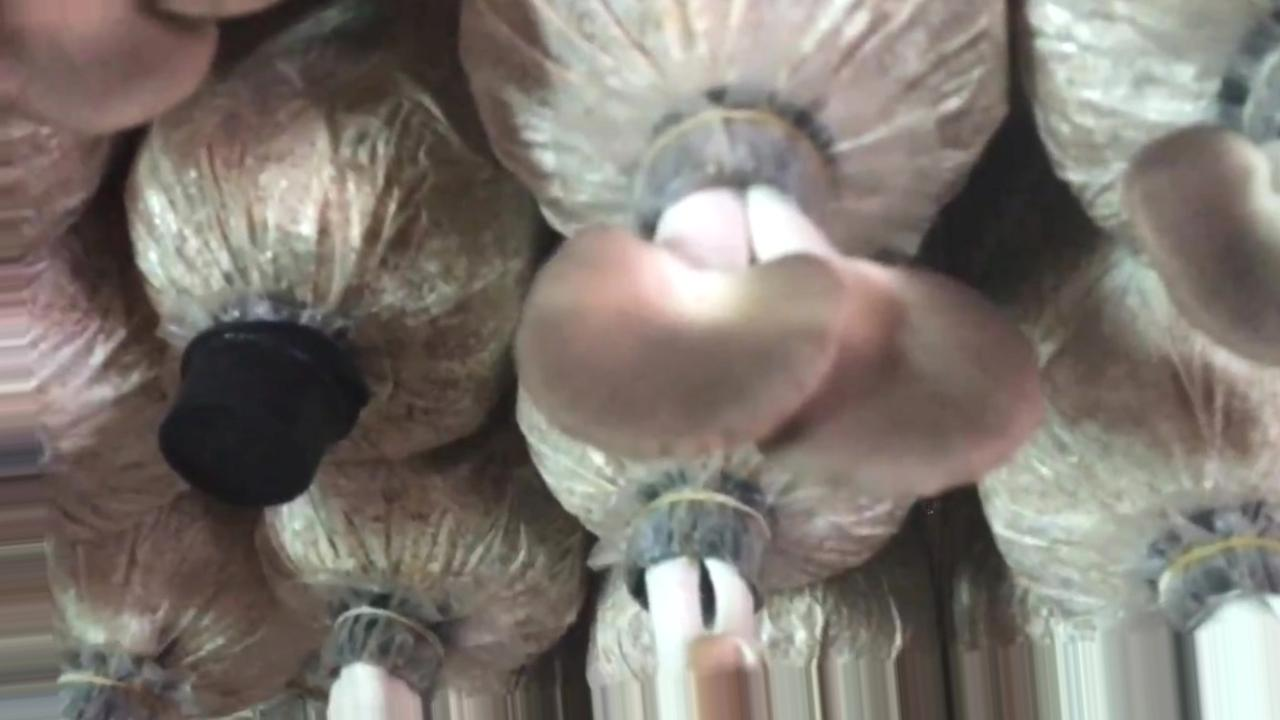nam: (520, 93, 1036, 500), (1127, 118, 1280, 365), (638, 506, 771, 720)
